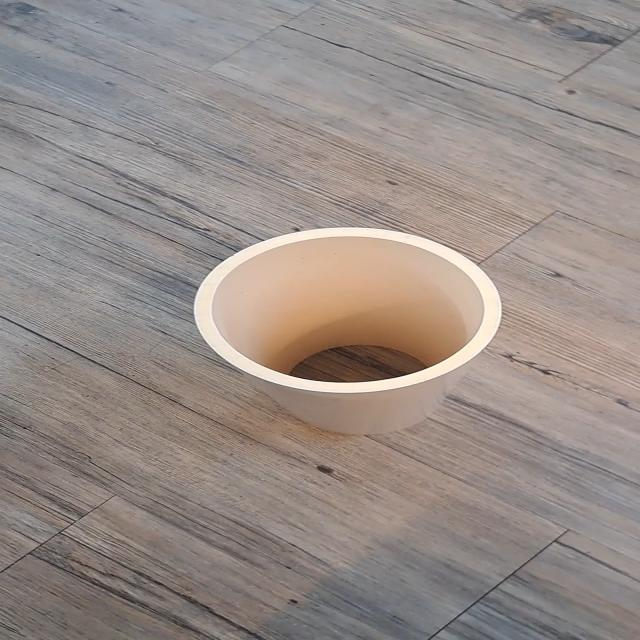CORAL: (176, 219, 514, 461)
